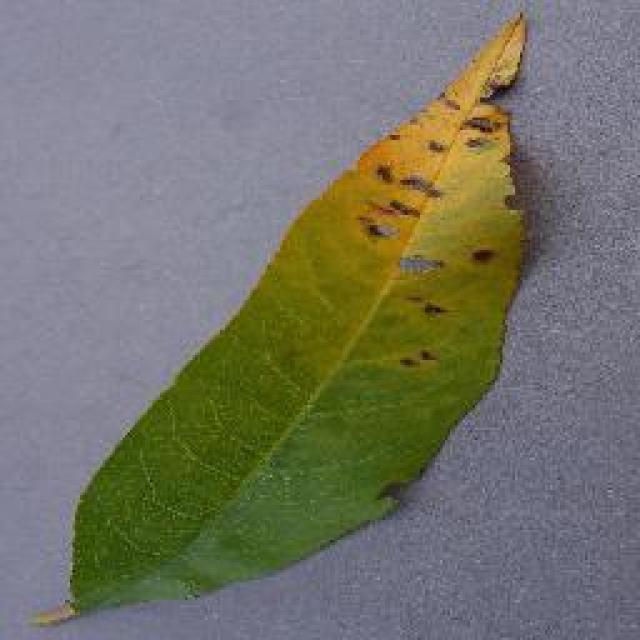Peach_Bacterial_Spot: (342, 84, 538, 334)
